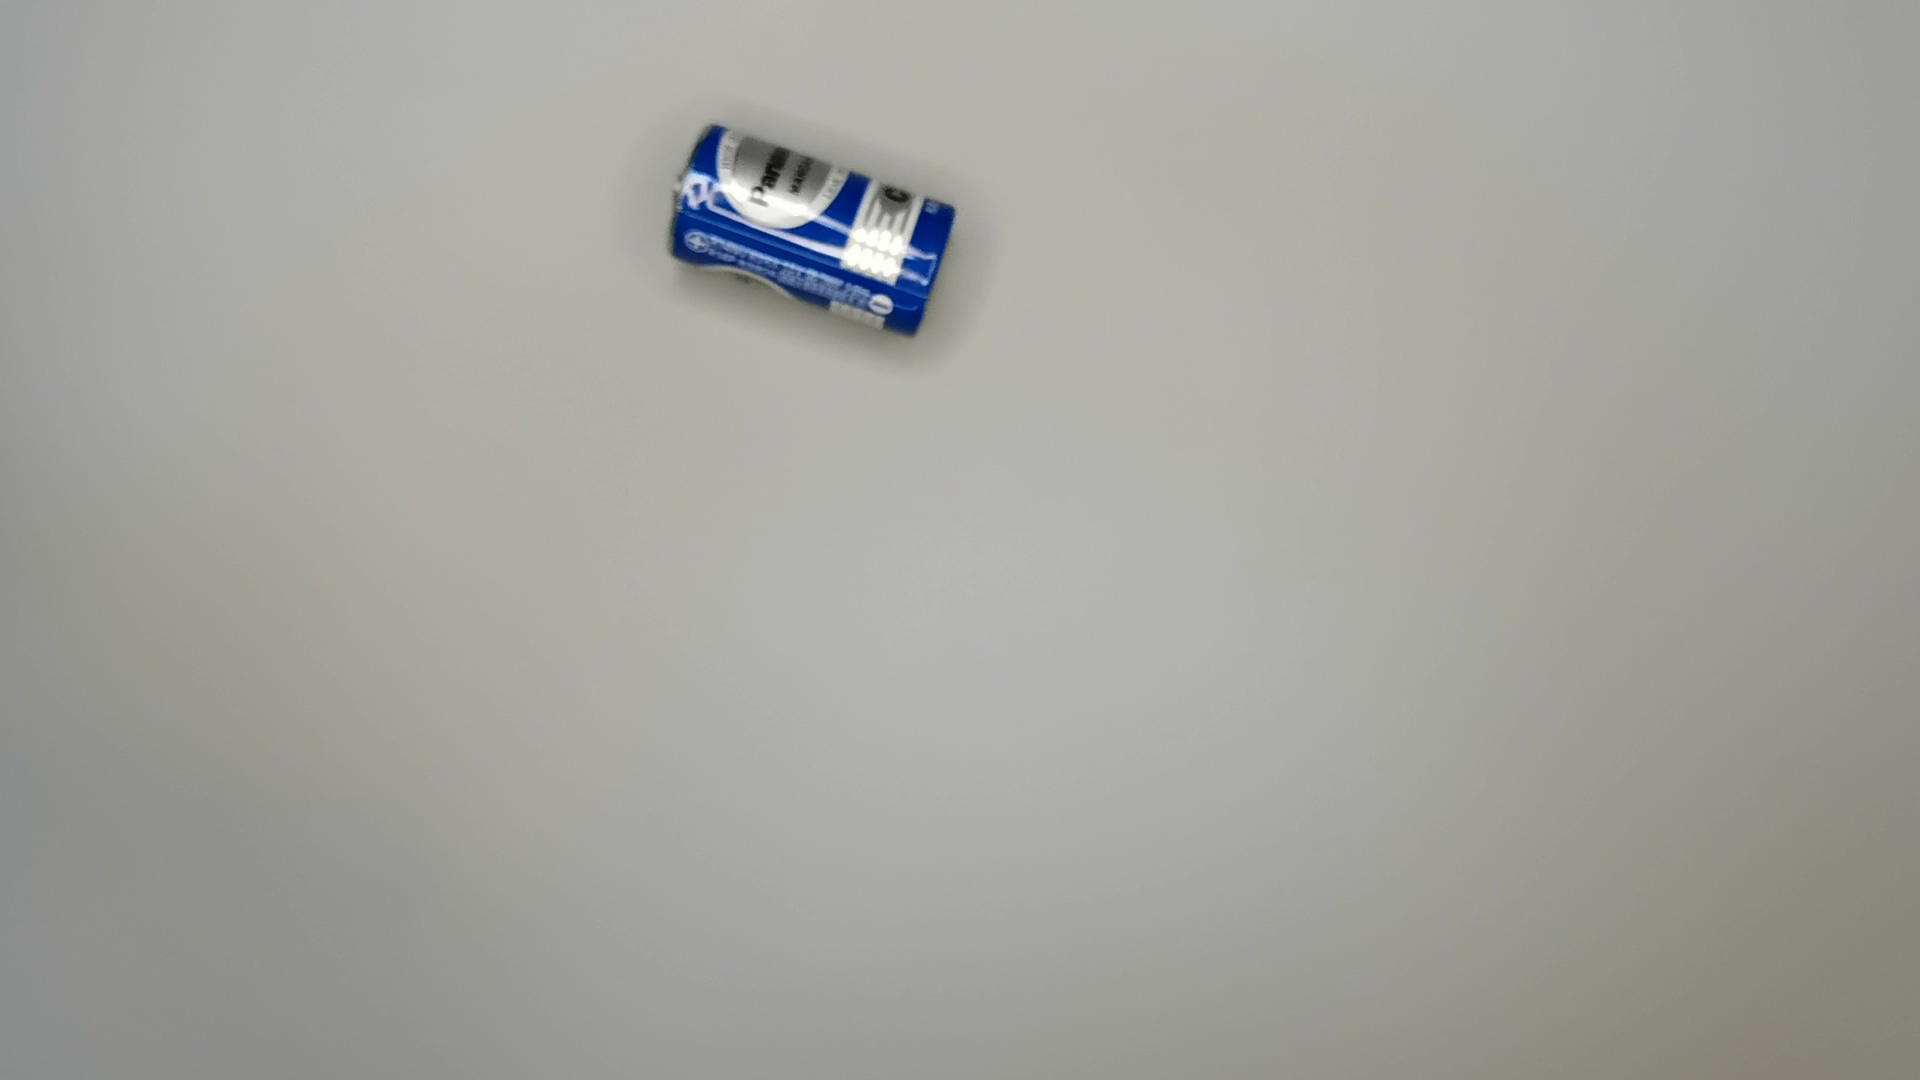battery: (666, 119, 964, 342)
